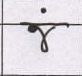anusvara: (41, 8, 46, 12)
